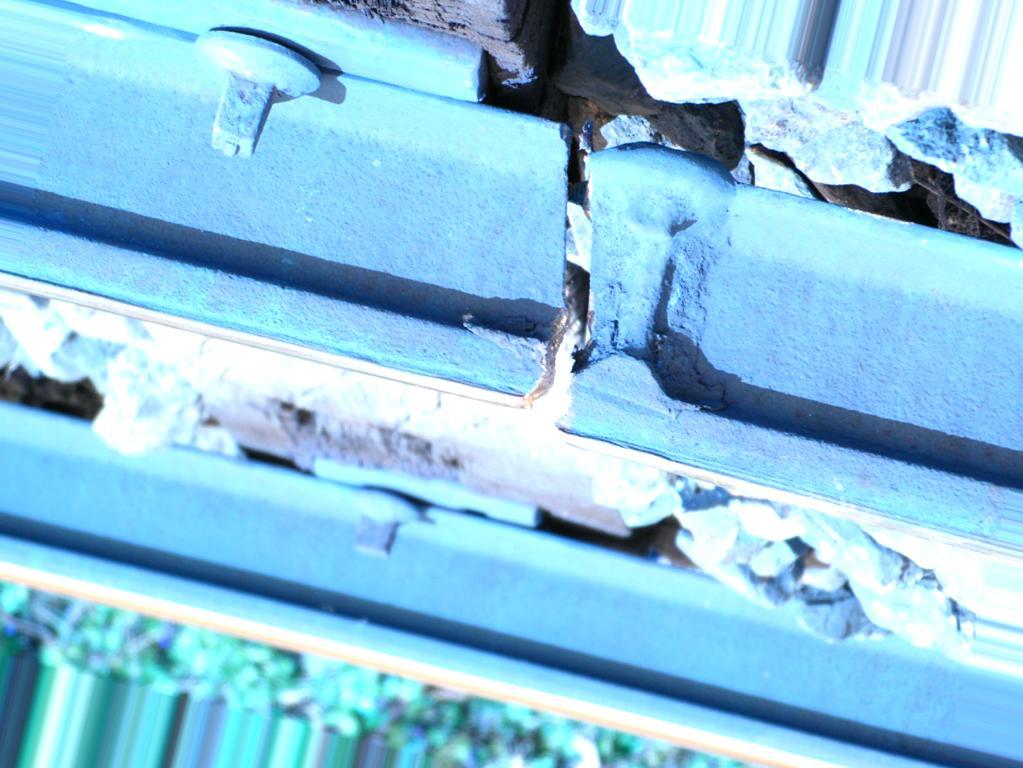tracks_fault: (416, 77, 804, 520)
